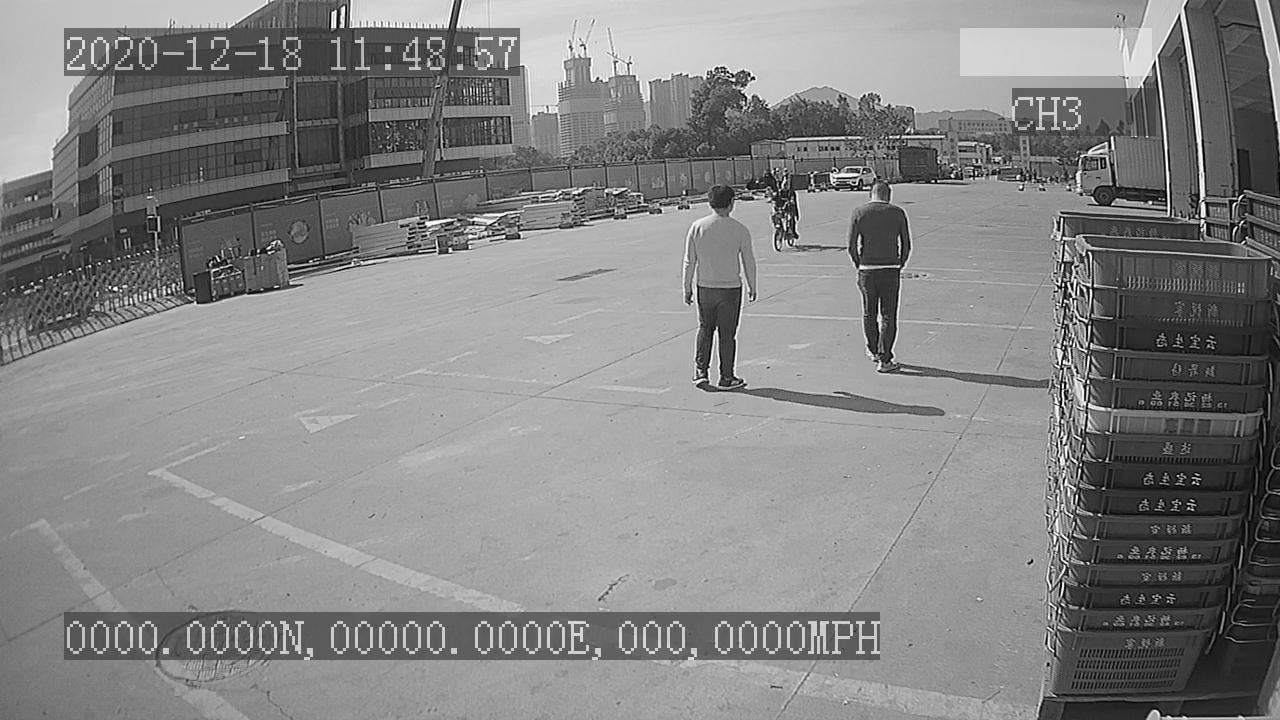person: (679, 183, 761, 395), (843, 179, 915, 378)
